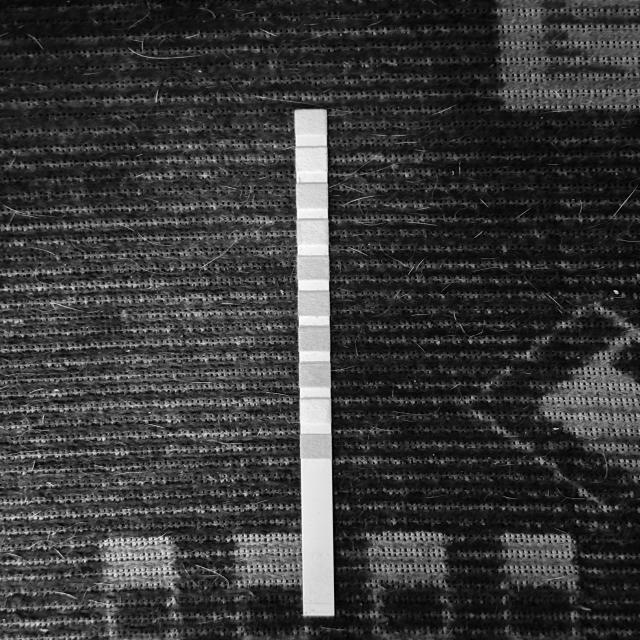Bilirubin: (300, 400, 331, 422)
Blood: (298, 292, 329, 316)
Glucose: (301, 435, 331, 458)
Ketone: (300, 364, 331, 387)
Leukocytes: (295, 110, 327, 134)
Nitrite: (296, 148, 327, 172)
Protein: (298, 220, 328, 244)
SpGravity: (300, 328, 330, 350)
Urobilinogen: (296, 184, 328, 208)
background: (0, 0, 640, 640)
pH: (297, 257, 329, 280)
strip: (294, 109, 334, 616)
